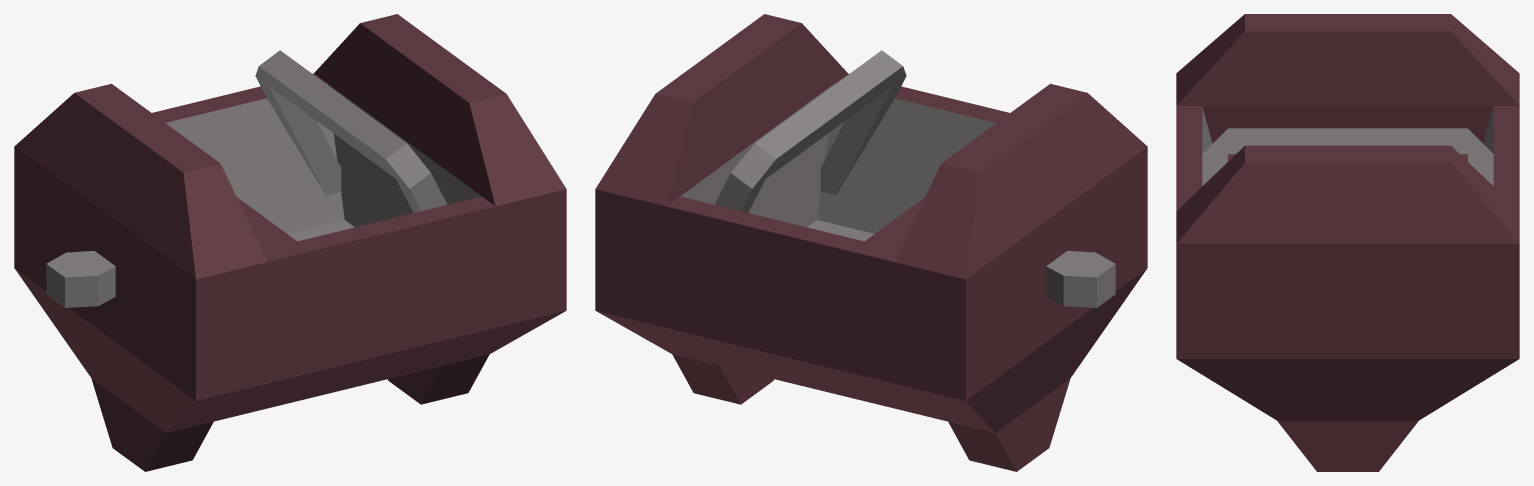
File: roller-coaster-cart-front.fbx
The picture shows the model from 3 angles, left to right: view 1: azimuth 30°, elevation 25°; view 2: azimuth 150°, elevation 25°; view 3: azimuth 270°, elevation 25°; orthographic projection. The views are drawn at different scales.
Visible parts, largest first — view 1: roller-coaster-cart-front; view 2: roller-coaster-cart-front; view 3: roller-coaster-cart-front.
Boxes of the visible parts, box(x1,y1,x2,y2) form: roller-coaster-cart-front: box(14, 14, 566, 471); roller-coaster-cart-front: box(595, 14, 1147, 471); roller-coaster-cart-front: box(1176, 14, 1519, 471).
Bounding box in the file's own units: 1.77 × 1.32 × 1.33.
